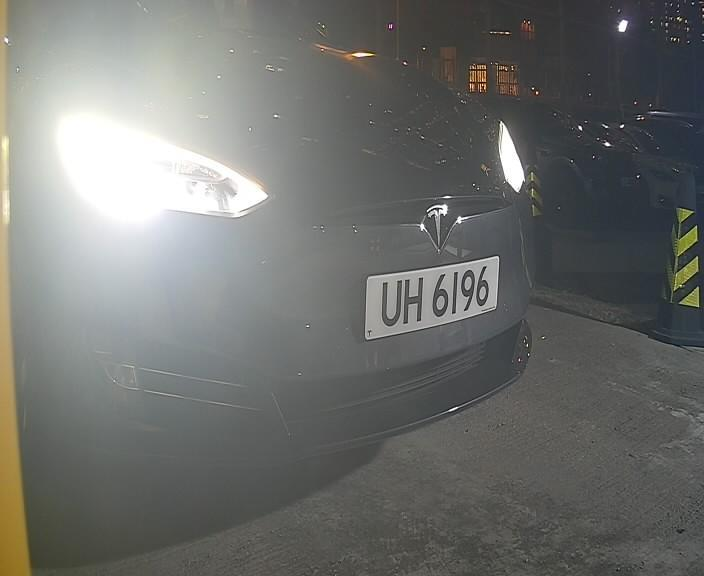privatecar: (1, 8, 546, 478)
